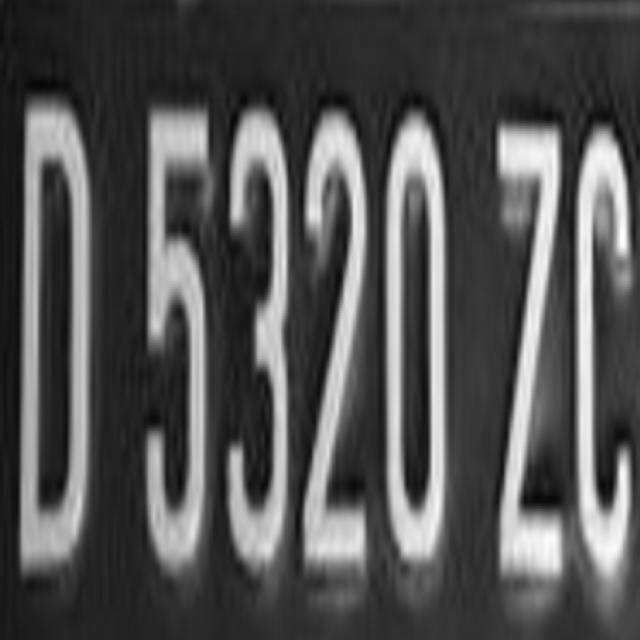0: (376, 98, 462, 562)
2: (293, 98, 377, 581)
3: (216, 80, 294, 586)
5: (136, 90, 217, 590)
C: (573, 106, 640, 591)
D: (0, 60, 102, 605)
Z: (493, 96, 567, 622)
